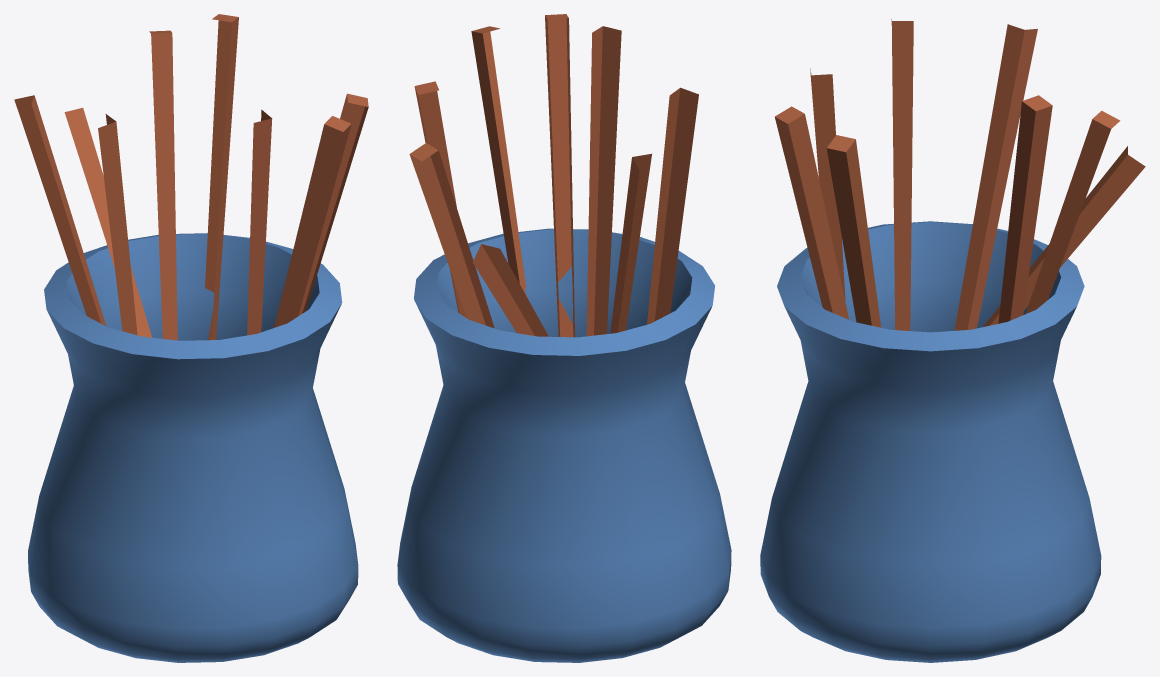
File: chopstick.fbx
The picture shows the model from 3 angles, left to right: view 1: azimuth 30°, elevation 25°; view 2: azimuth 150°, elevation 25°; view 3: azimuth 270°, elevation 25°; orthographic projection. The views are drawn at different scales.
Visible parts, largest first — view 1: spoondish, spoons.002; view 2: spoondish, spoons.002; view 3: spoondish, spoons.002.
Boxes of the visible parts, box(x1,y1,x2,y2) form: spoondish: box(28, 233, 358, 662); spoons.002: box(14, 14, 368, 340); spoondish: box(397, 228, 731, 662); spoons.002: box(409, 14, 698, 337); spoondish: box(760, 221, 1101, 662); spoons.002: box(775, 19, 1145, 330).
Size of the model in its own units: 13.42 by 23.71 by 15.17.
